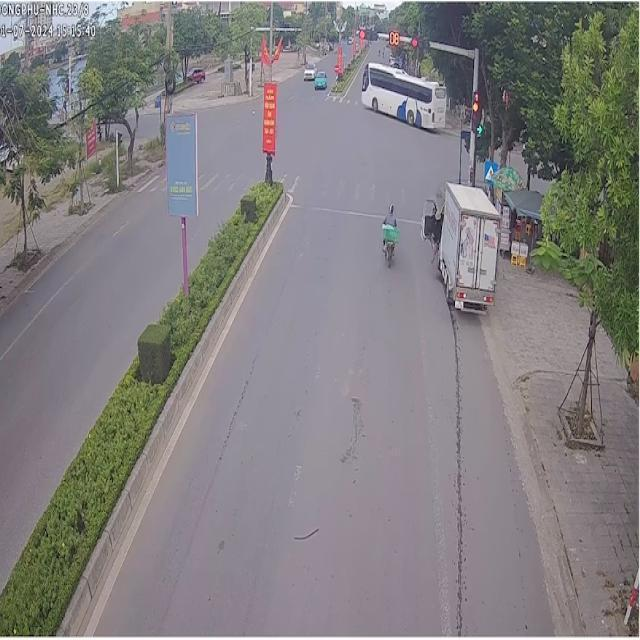car: (436, 182, 498, 309), (359, 59, 444, 126), (302, 59, 314, 78), (313, 68, 324, 88)
motobike: (380, 202, 398, 262)
red_light: (471, 90, 478, 133), (359, 26, 377, 40), (410, 36, 429, 47), (389, 30, 399, 45)
stop_line: (290, 203, 382, 216), (396, 218, 418, 223)
